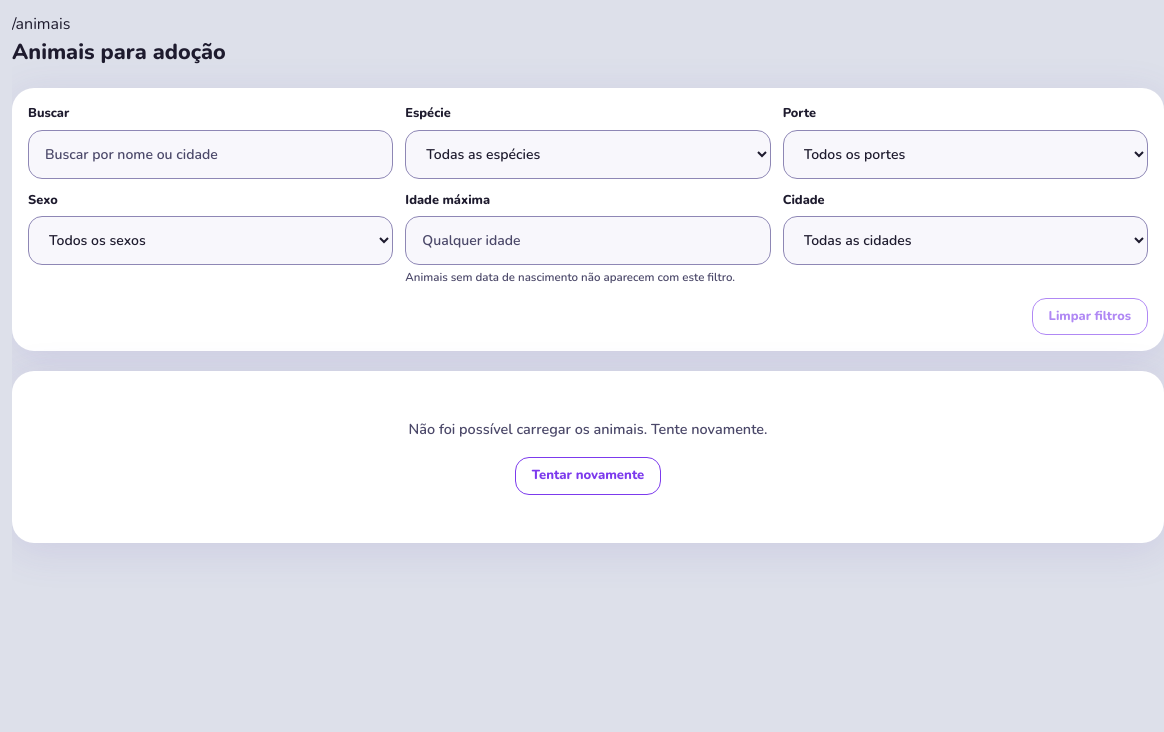
Test: os cinco estados da grade — a ORDEM da decisão é a regra › CT-95: a falha exibe a mensagem com nova tentativa, e NENHUMA mensagem de vazio
Check: the text "Não foi possível carregar os animais. Tente novamente." is shown, box [408, 419, 768, 441]
Click the button "Tentar novamente".
click(588, 476)  # box [515, 457, 661, 494]
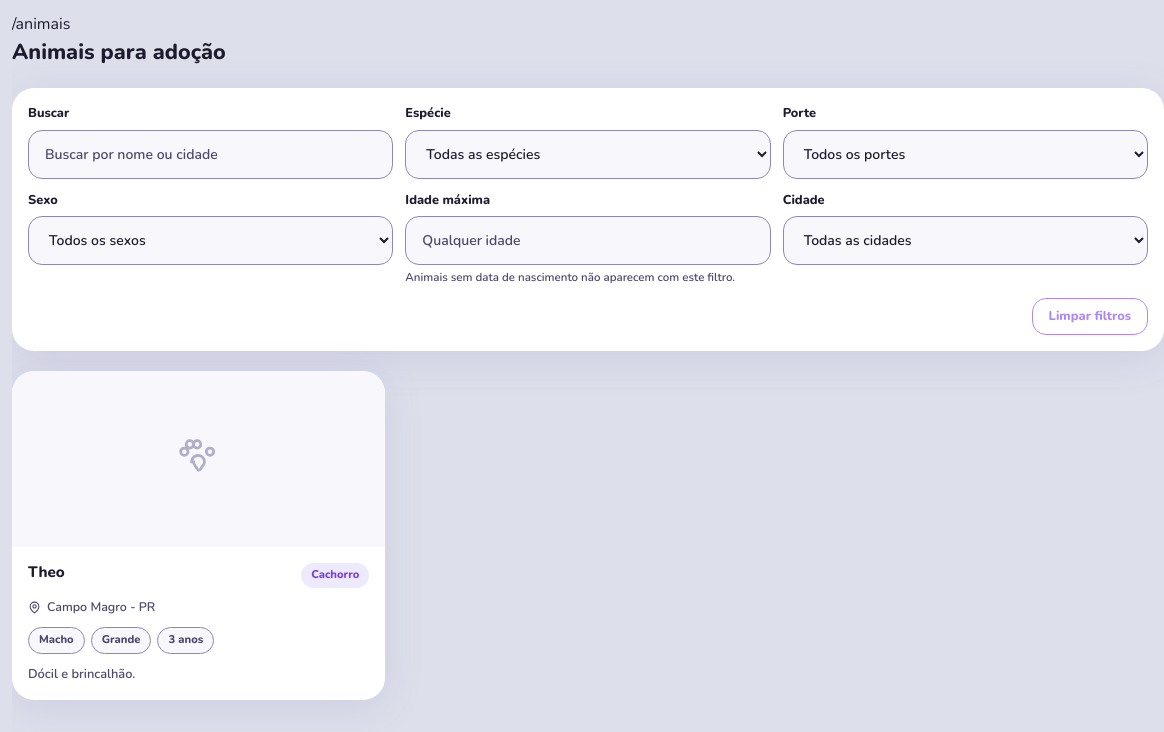
Check: the heading "Theo" is shown, box [28, 563, 65, 582]
